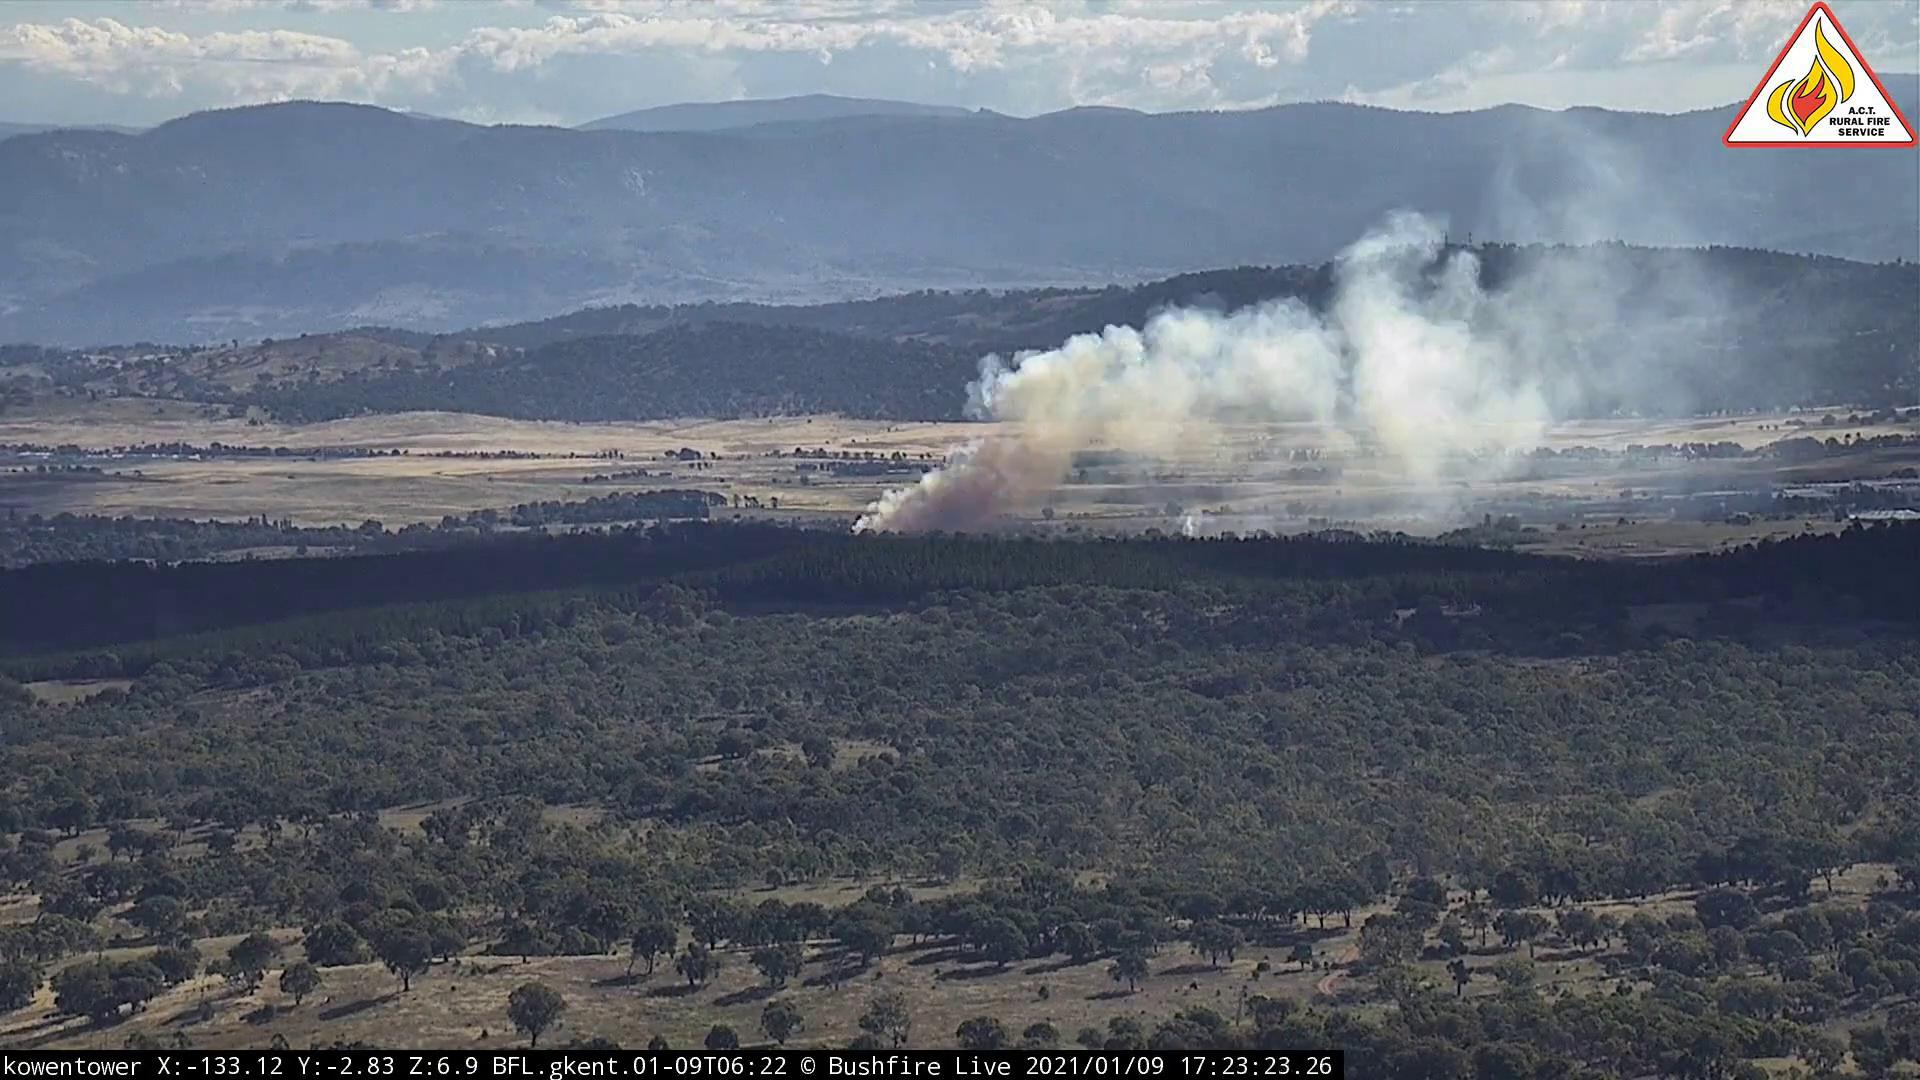Smoke: (837, 123, 1714, 553)
